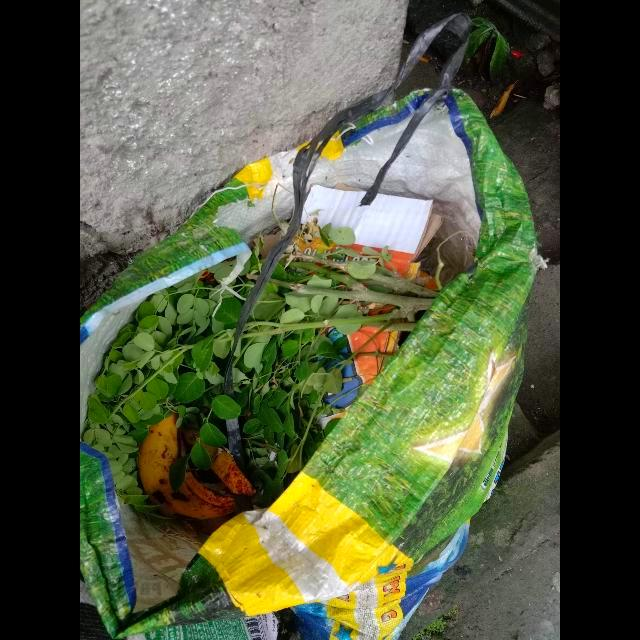cardboard: (298, 185, 442, 274)
